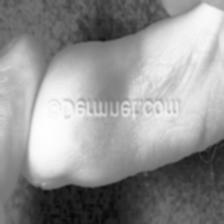Unclassified: (81, 89, 123, 157), (0, 85, 26, 191)
